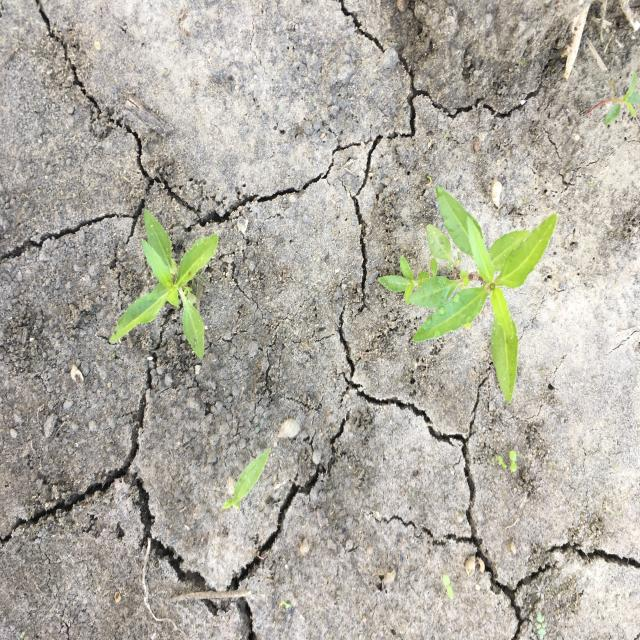Eclipta: (376, 182, 558, 408), (108, 208, 220, 362)
Waterhemp: (583, 66, 639, 129)
